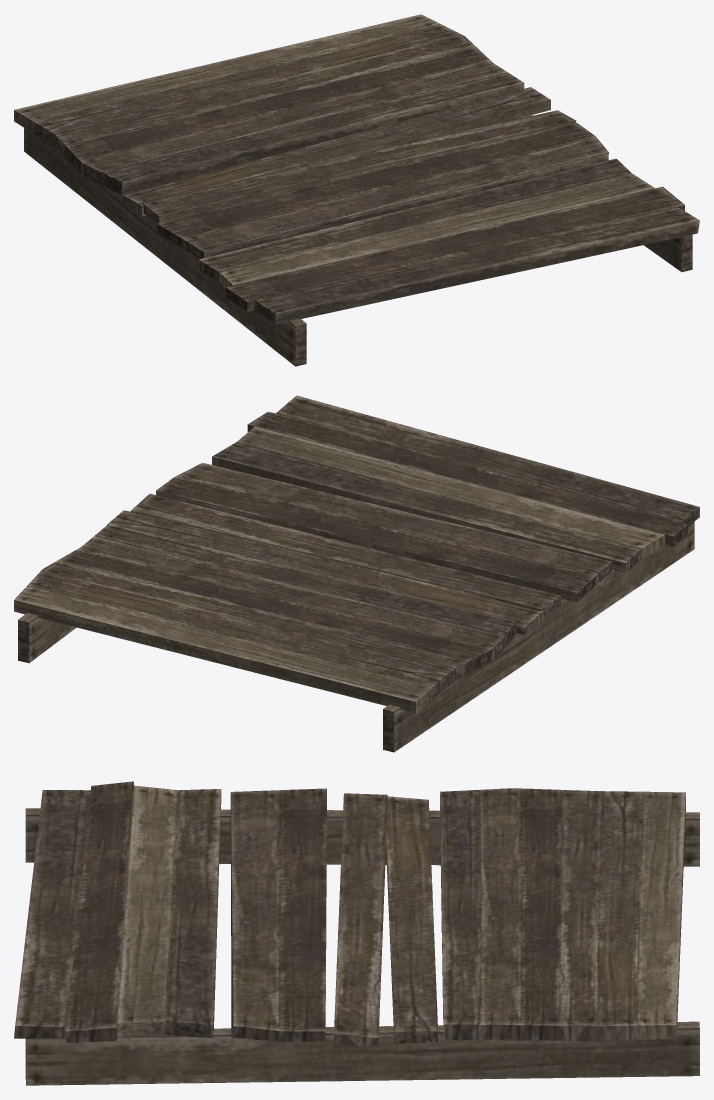
Rendered from eso_gu3_wooddocks3-transformed.glb.
3 renders of one model, top to bottom at view 1: azimuth 30°, elevation 25°; view 2: azimuth 150°, elevation 25°; view 3: azimuth 270°, elevation 25°, orthographic. The views are drawn at different scales.
Parts seen in each view (by area): view 1: default; view 2: default; view 3: default.
Part boxes in pixels (x1,y1,x2,y2): default: (14, 14, 699, 366); default: (14, 395, 699, 752); default: (14, 781, 699, 1085).
Bounding box in the file's own units: 7.62 × 0.9294 × 8.79.
Materials: 1 (1 with a texture image).
